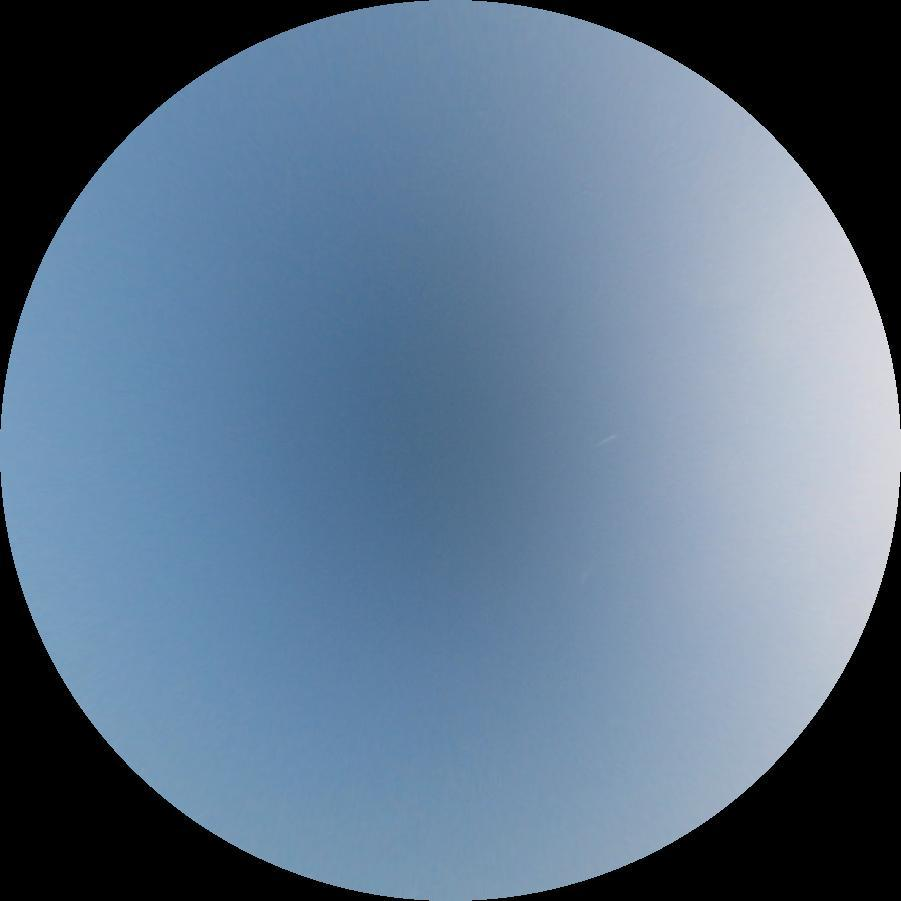contrail young: (587, 432, 619, 453), (578, 569, 591, 588)
